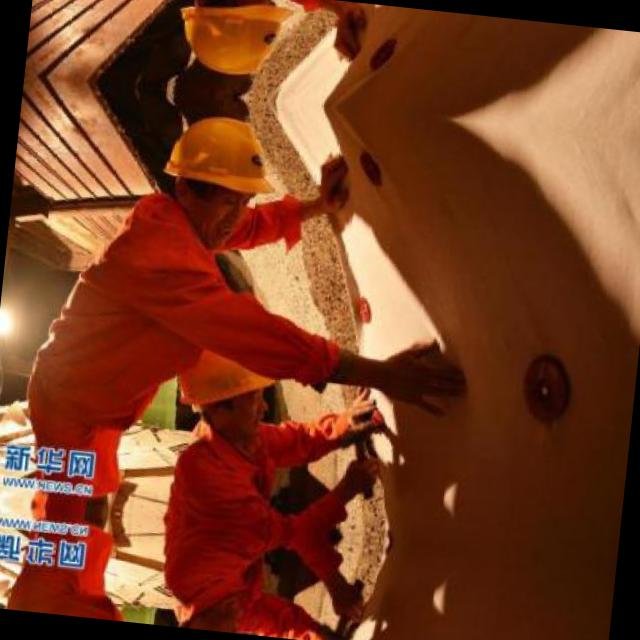helmet: (142, 98, 288, 250), (158, 0, 301, 92), (168, 347, 280, 448), (148, 596, 254, 631)
